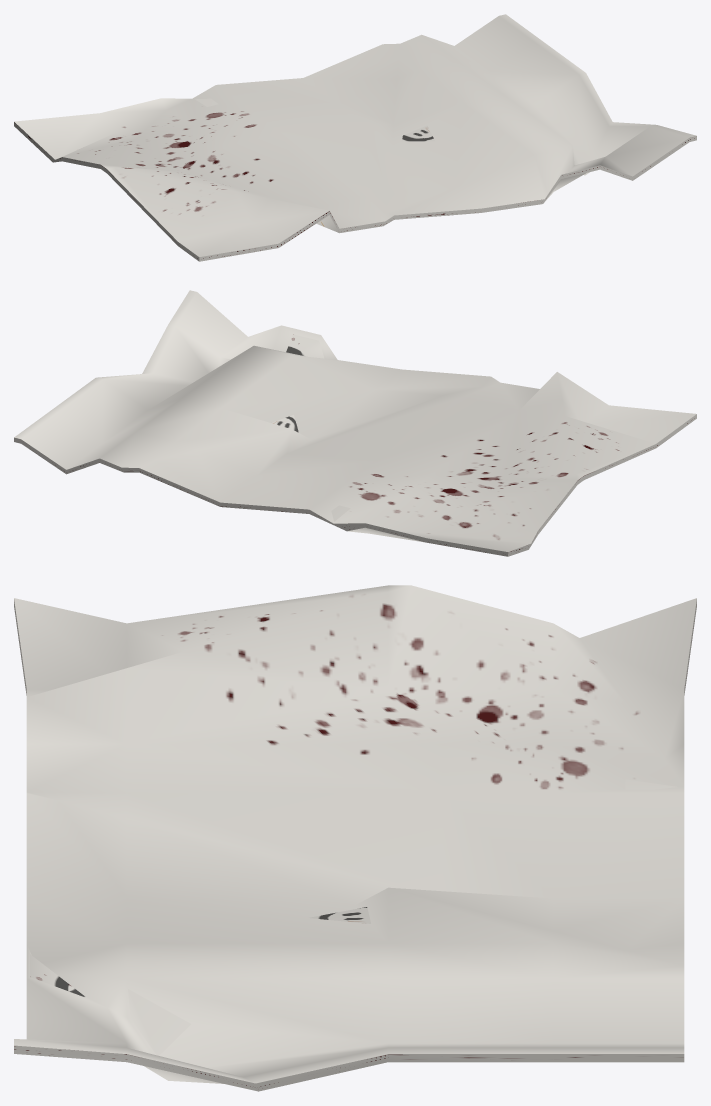
Rendered from drawing_OBJ.obj.
The picture shows the model from 3 angles, top to bottom: view 1: azimuth 30°, elevation 25°; view 2: azimuth 150°, elevation 25°; view 3: azimuth 270°, elevation 25°; orthographic projection. The views are drawn at different scales.
Visible parts, largest first — view 1: pCube1; view 2: pCube1; view 3: pCube1.
Boxes of the visible parts, x1,y1,x2,y2 form: pCube1: [14, 14, 696, 261]; pCube1: [14, 290, 696, 556]; pCube1: [14, 585, 696, 1091].
Bounding box in the file's own units: 6.29 × 0.7821 × 4.06.
